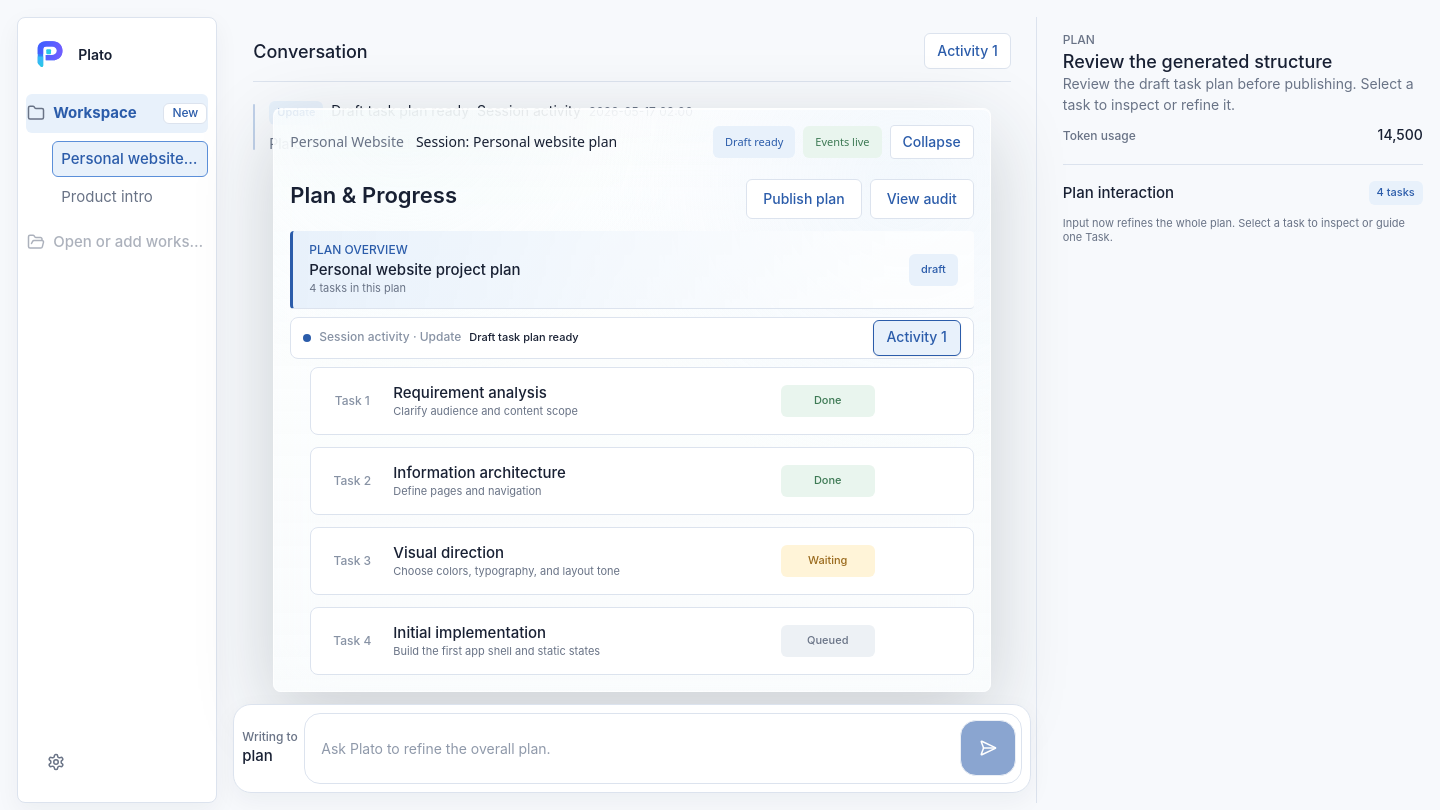
Test: MainPage app-control failures › keeps the user input and concrete missing-accessibility reason in Conversation
Type "给微信的文件传输助手发送“你好”" into the field named "Context message" at (663, 748), box [304,713,1022,784]
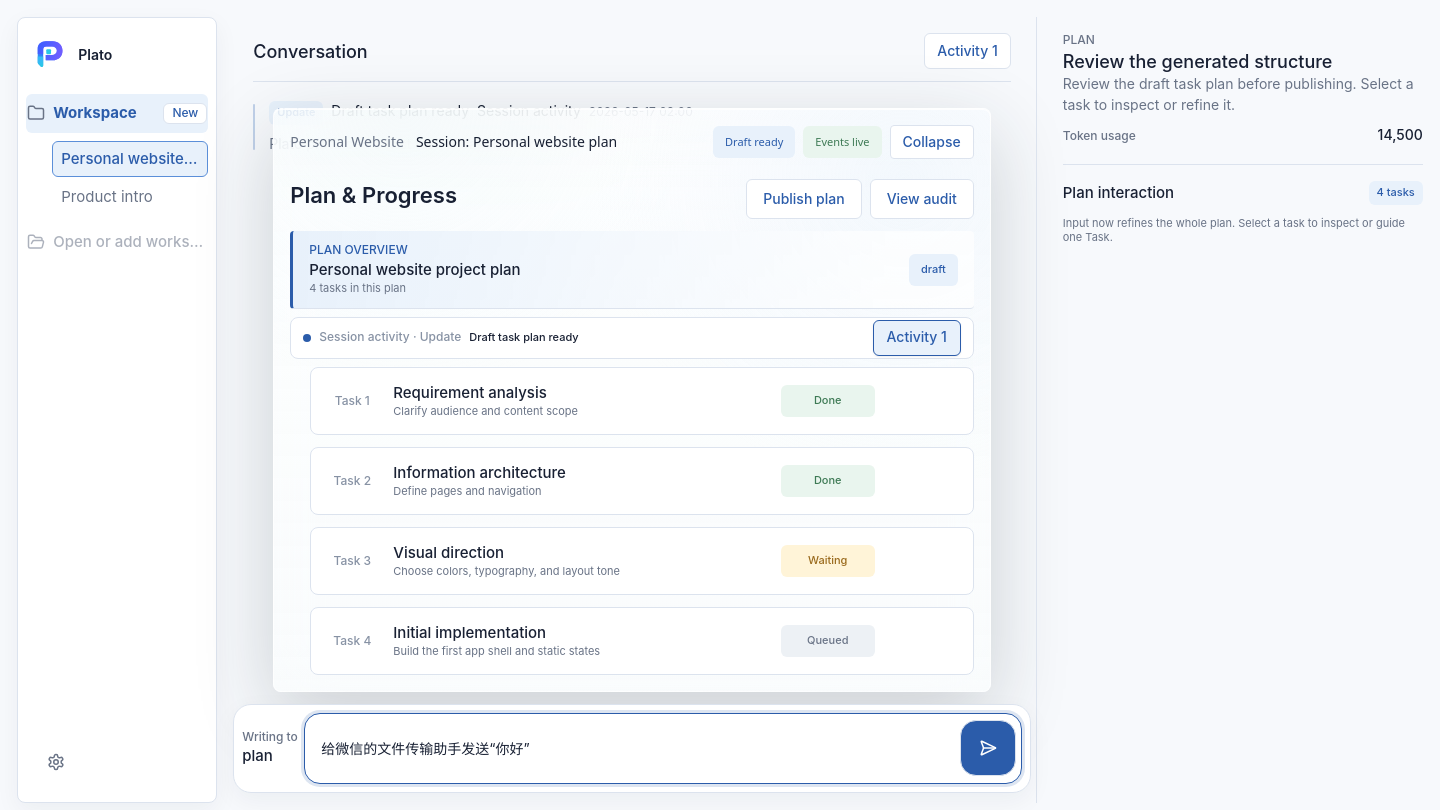
Click the button named "Send message" at (988, 748), box [960,720,1016,776]
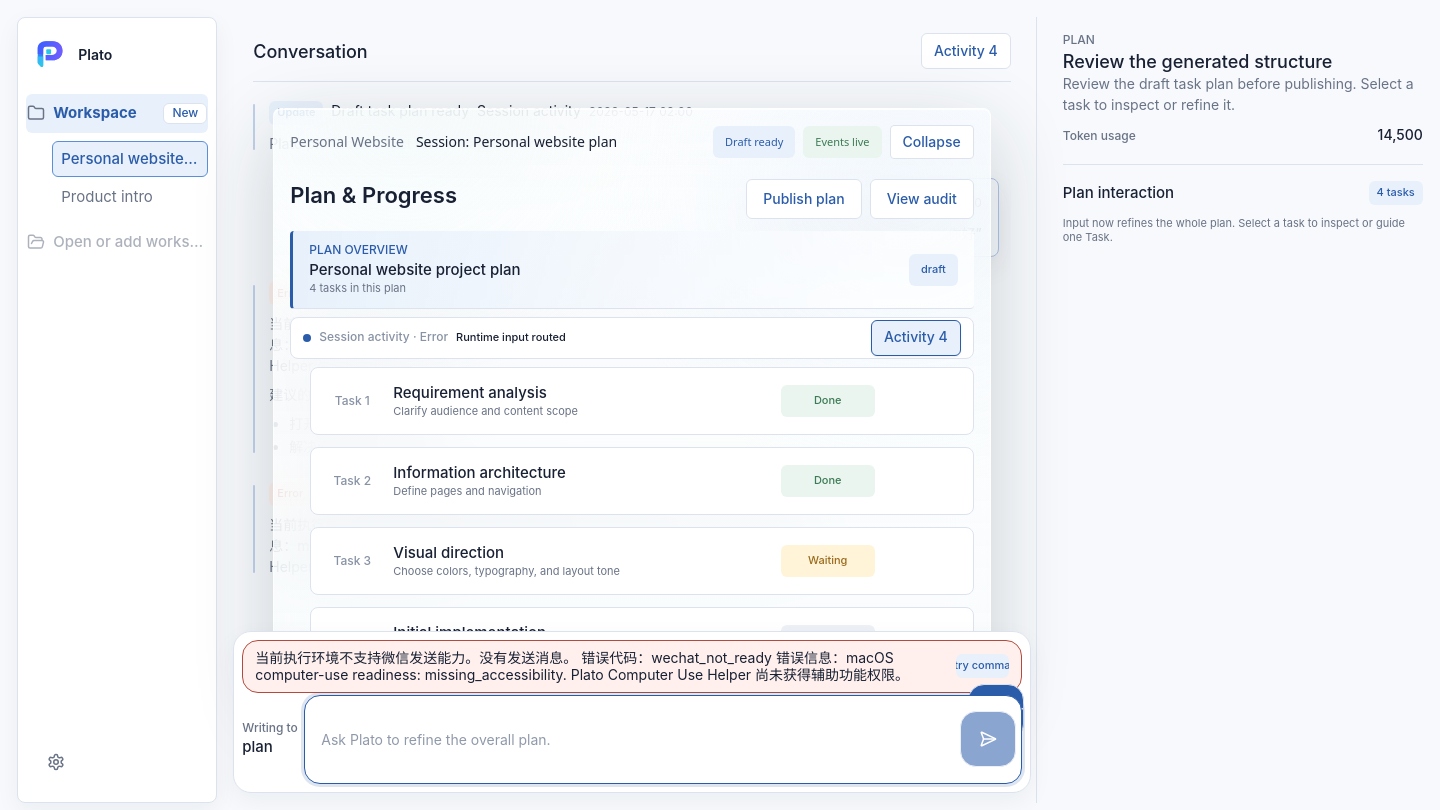
Check: the button "Open settings" is shown, box [968,684,1024,740]
Check: the text "Retry command" is shown, box [956,654,1009,678]
